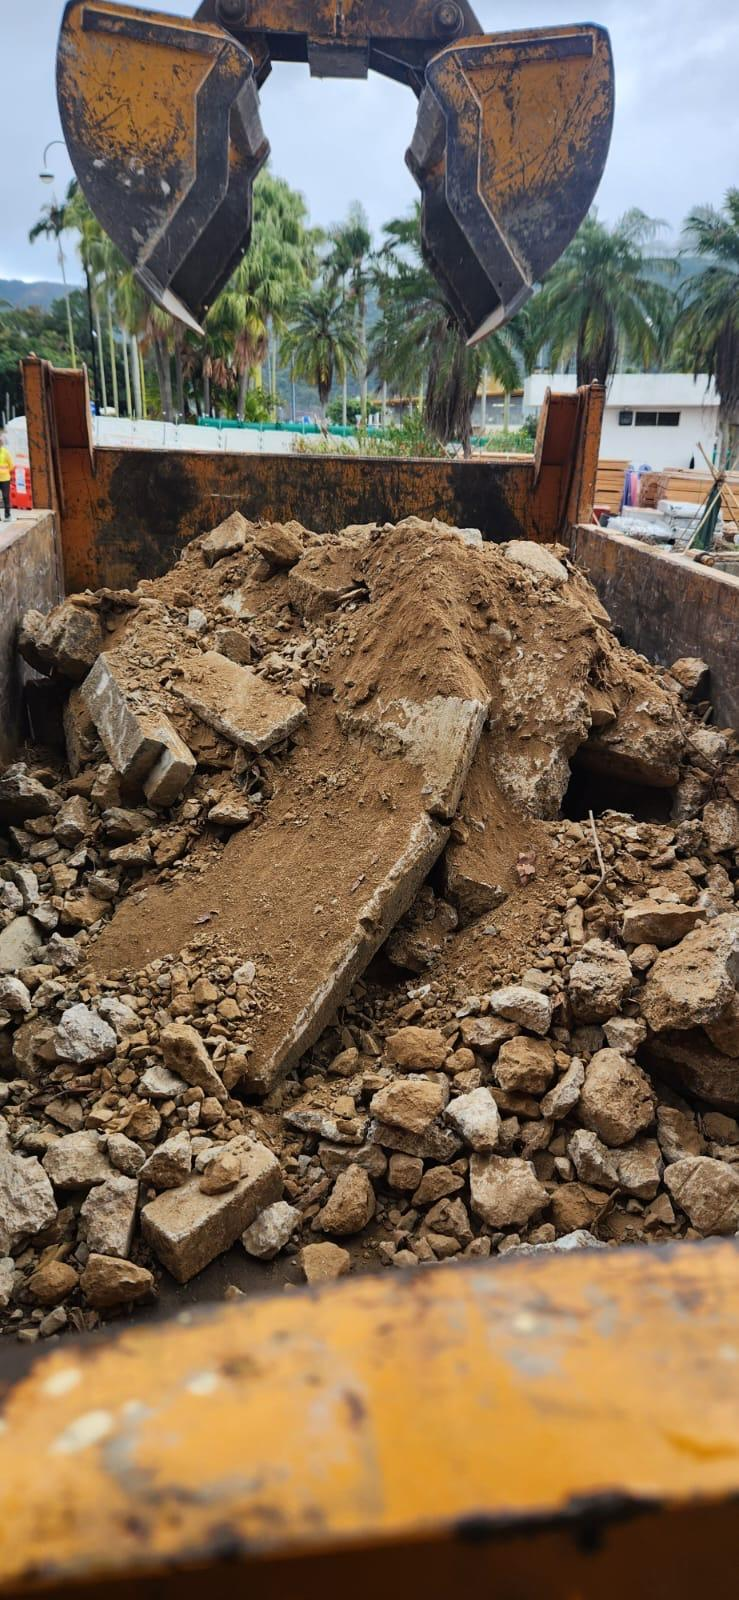stone: (1, 510, 737, 1340), (70, 690, 489, 1098), (138, 1133, 284, 1283), (78, 653, 196, 808), (167, 648, 308, 753), (467, 1151, 550, 1226), (370, 1076, 448, 1134)
